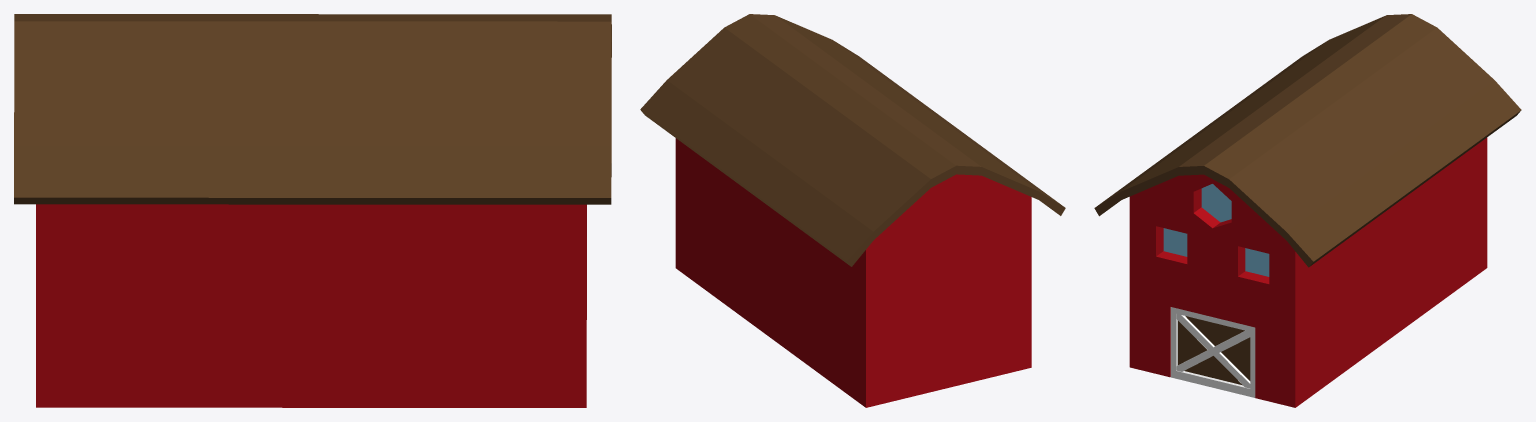
The model's file is farm.glb.
3 views of the same model, side by side, from view 1: azimuth 30°, elevation 25°; view 2: azimuth 150°, elevation 25°; view 3: azimuth 270°, elevation 25° (orthographic). The views are drawn at different scales.
Parts seen in each view (by area): view 1: granja; view 2: granja; view 3: granja.
Boxes of the visible parts, x1,y1,x2,y2 form: granja: (14, 14, 611, 407); granja: (640, 14, 1065, 407); granja: (1094, 14, 1521, 407).
Size of what is drawn, in the model's own units: 1.42 by 0.7383 by 1.25.
Materials: 1 (1 with a texture image).
